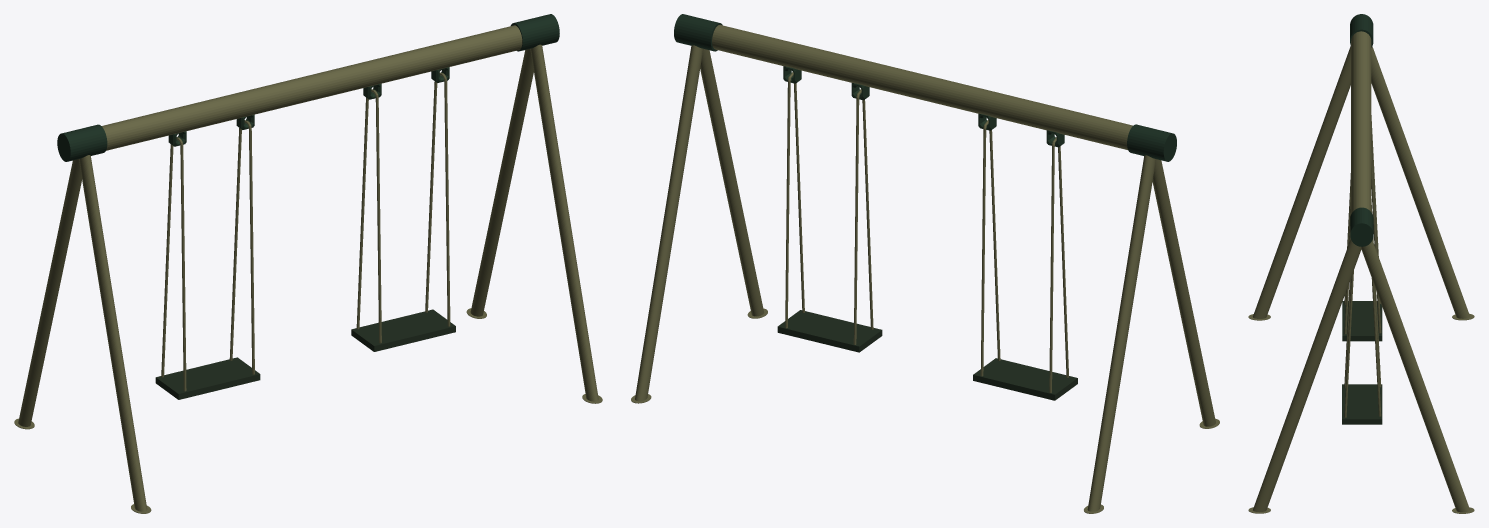
File: balancoire.fbx
3 views of the same model, side by side, from view 1: azimuth 30°, elevation 25°; view 2: azimuth 150°, elevation 25°; view 3: azimuth 270°, elevation 25° (orthographic). The views are drawn at different scales.
Parts seen in each view (by area): view 1: Cube.066, Cube.030, Cube.029, Cube.025, Cube.031; view 2: Cube.066, Cube.030, Cube.029, Cube.025, Cube.031; view 3: Cube.066, Cube.029, Cube.030, Cube.025.
Part boxes in pixels (left/top/right/bottom): Cube.066: left=14, top=25, right=602, bottom=513; Cube.030: left=161, top=72, right=450, bottom=391; Cube.029: left=155, top=309, right=455, bottom=399; Cube.025: left=57, top=14, right=559, bottom=161; Cube.031: left=168, top=67, right=449, bottom=146; Cube.066: left=631, top=25, right=1219, bottom=513; Cube.030: left=785, top=72, right=1068, bottom=392; Cube.029: left=777, top=310, right=1077, bottom=400; Cube.025: left=674, top=14, right=1176, bottom=161; Cube.031: left=783, top=66, right=1064, bottom=147; Cube.066: left=1248, top=31, right=1474, bottom=513; Cube.029: left=1342, top=301, right=1382, bottom=424; Cube.030: left=1344, top=115, right=1381, bottom=417; Cube.025: left=1350, top=14, right=1373, bottom=246.
Size of the model in its own units: 363 by 239 by 165.
